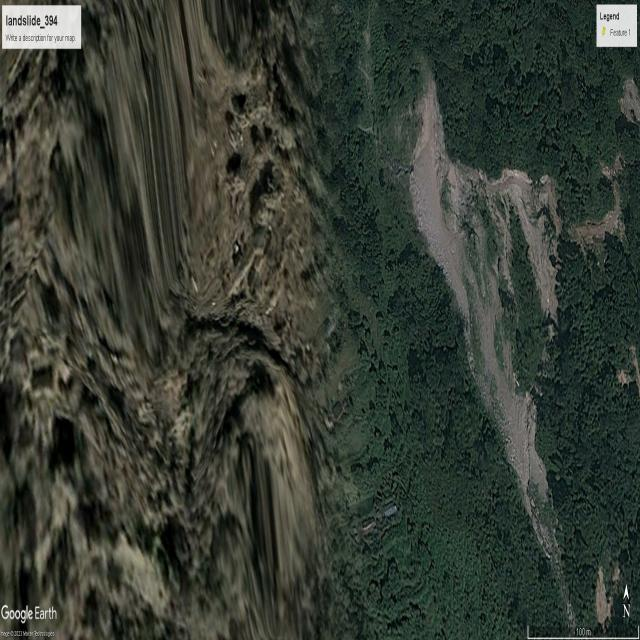Landslide: (408, 72, 465, 341)
